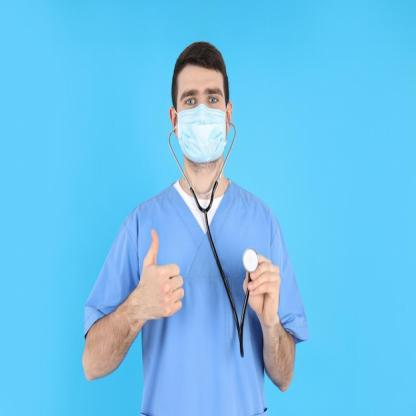thumb_up: (138, 226, 186, 323)
